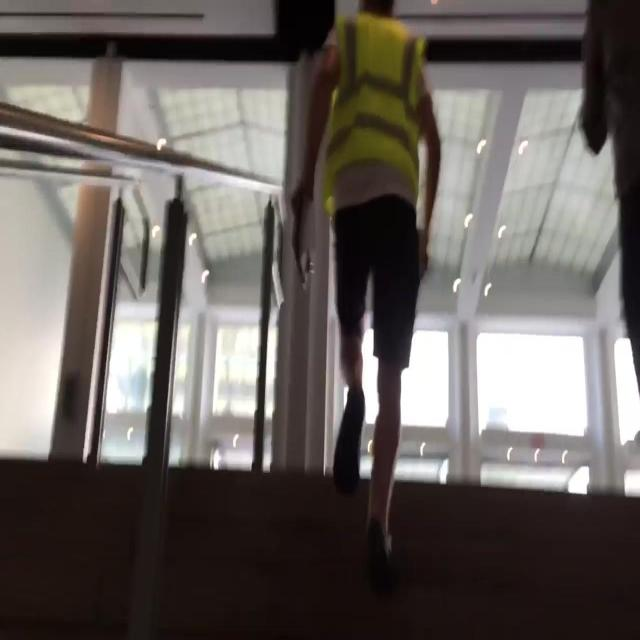Vest: (320, 14, 428, 212)
